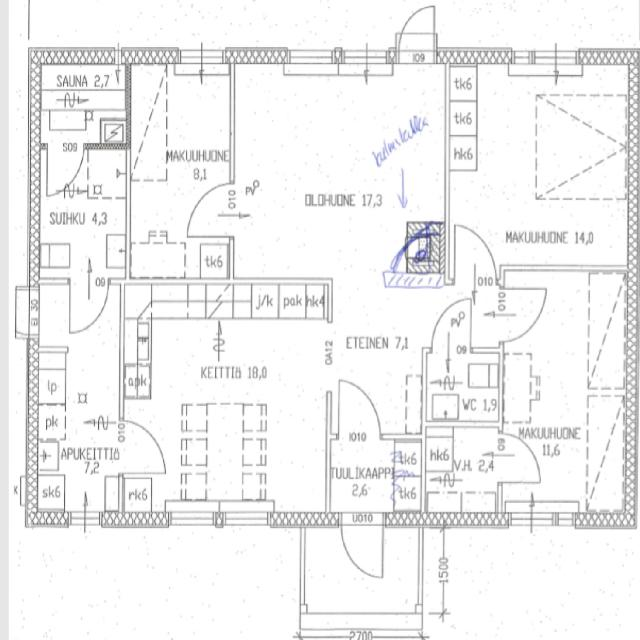door: (340, 511, 382, 580), (186, 183, 234, 237), (397, 0, 436, 64), (499, 288, 545, 342), (454, 228, 495, 284), (339, 384, 378, 438), (432, 299, 471, 352), (119, 424, 162, 472), (70, 279, 108, 332), (499, 435, 541, 482), (47, 143, 83, 195), (0, 288, 38, 334)
